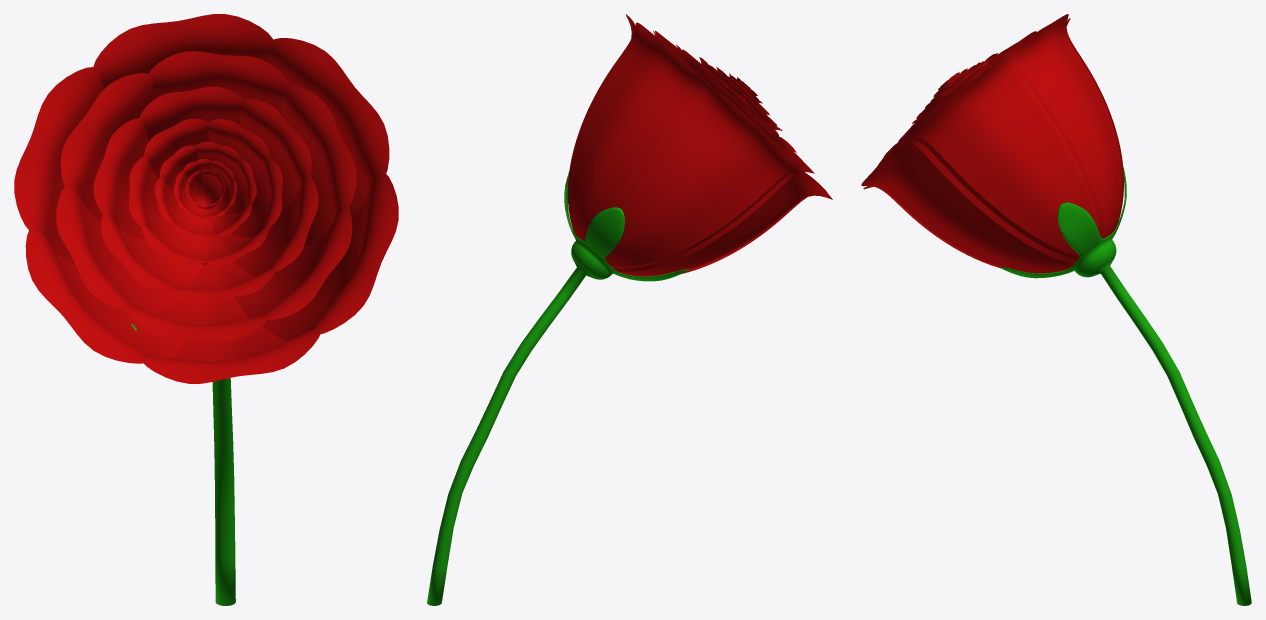
The model's file is rose.fbx.
3 renders of one model, left to right at view 1: azimuth 30°, elevation 25°; view 2: azimuth 150°, elevation 25°; view 3: azimuth 270°, elevation 25°, orthographic. The views are drawn at different scales.
Parts seen in each view (by area): view 1: Rosa, gambo; view 2: Rosa, gambo; view 3: Rosa, gambo.
Part boxes in pixels (x1,y1,x2,y2): Rosa: (14, 14, 398, 383); gambo: (131, 323, 235, 605); Rosa: (565, 14, 832, 276); gambo: (427, 170, 689, 605); Rosa: (861, 14, 1123, 273); gambo: (1000, 166, 1251, 605).
Bounding box in the file's own units: 43.51 × 80.66 × 54.86.
